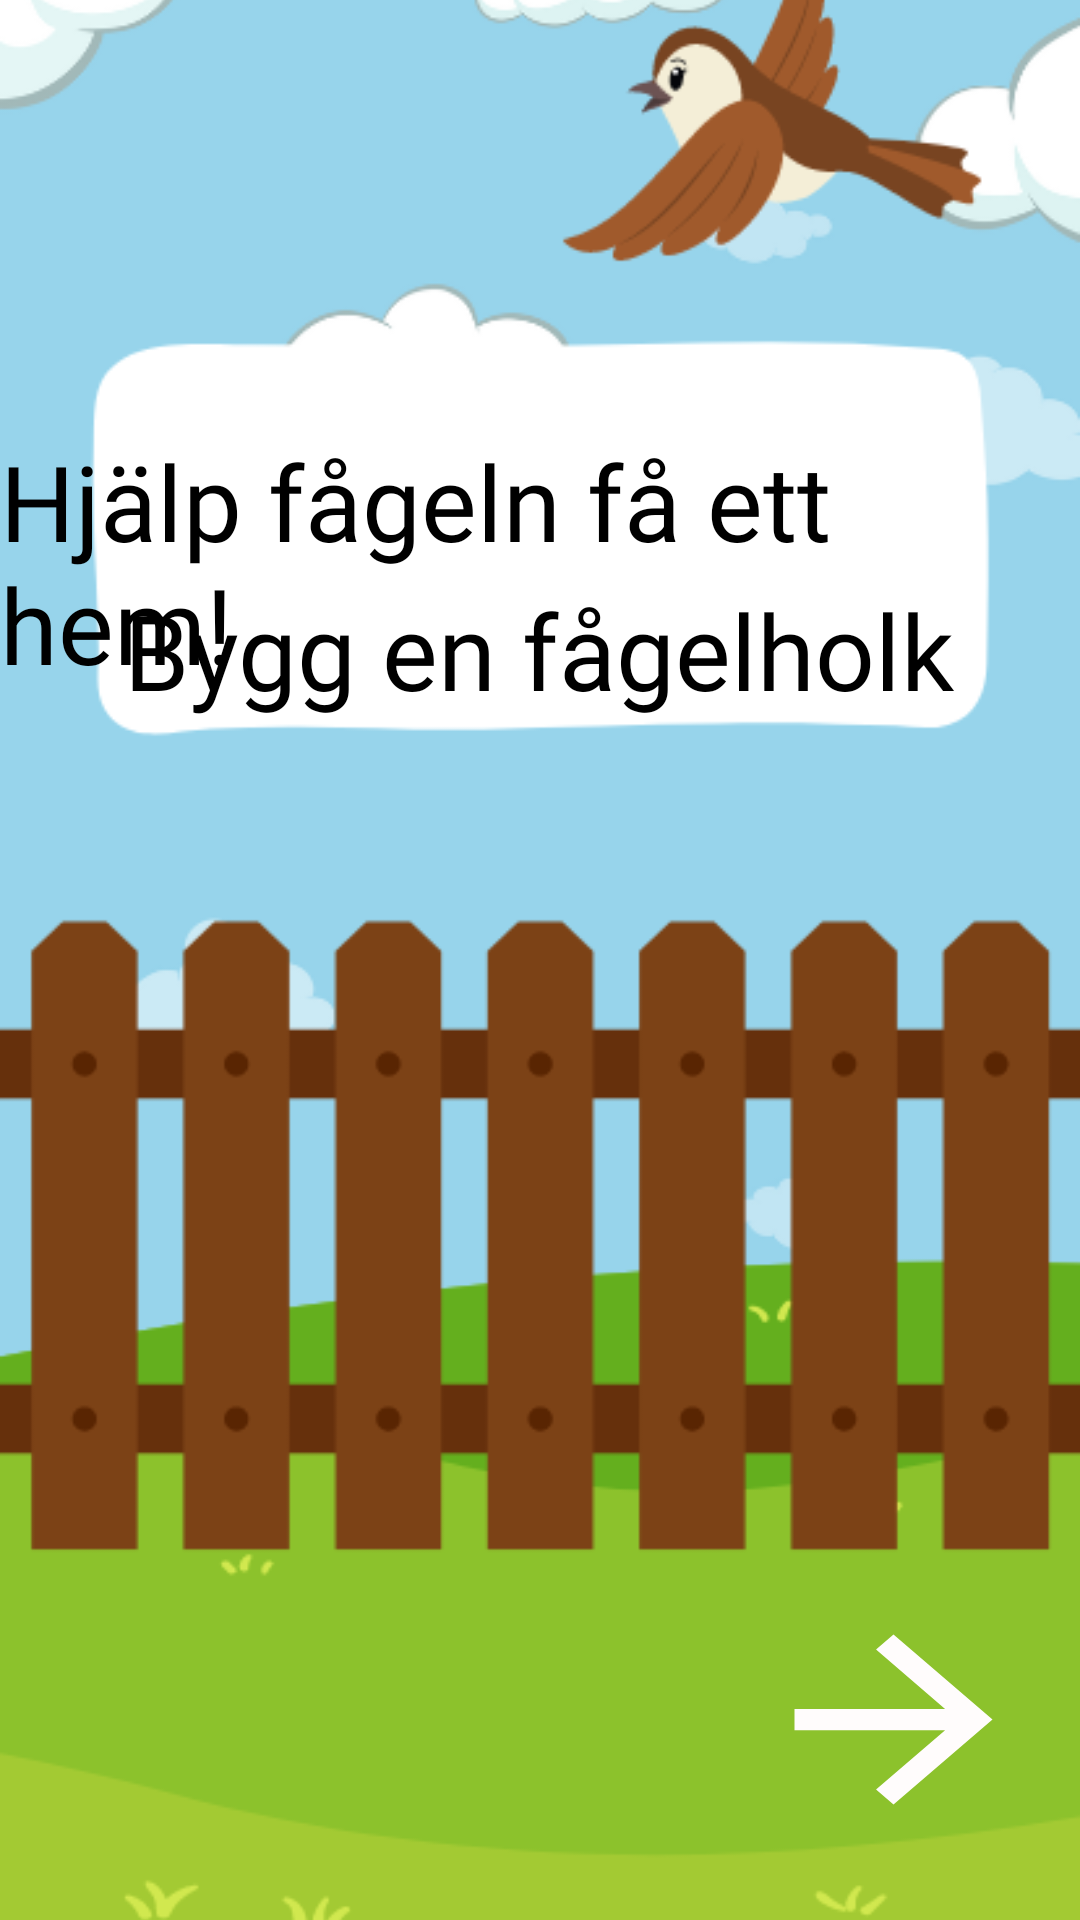

Named icons in this screenshot (1080*1920) and their bounding boxes, (x1, y1, x2, y2):
Begin building: (794, 1634, 993, 1805)
